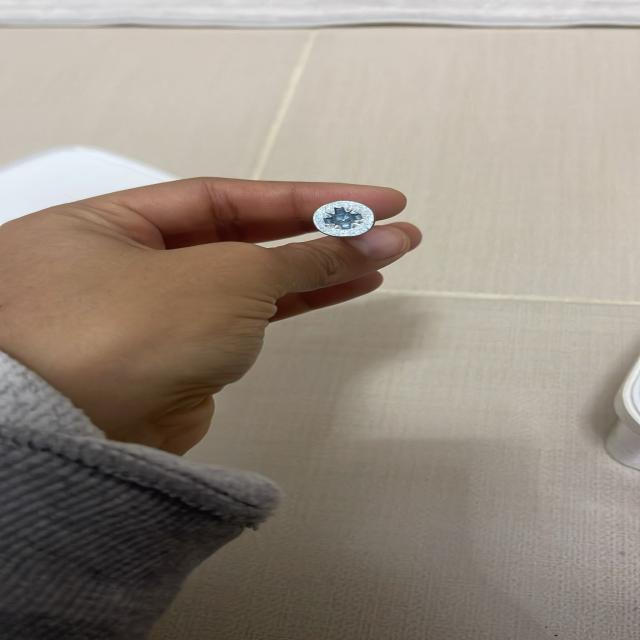Pozidriv: (306, 202, 388, 236)
